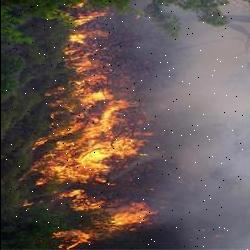fire: (38, 0, 166, 249)
